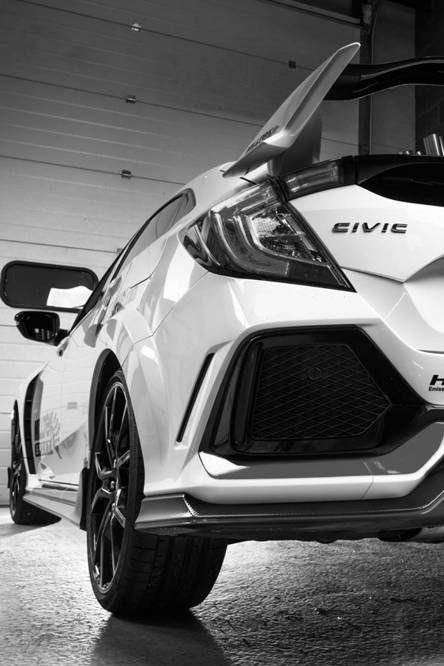Car boot: (213, 146, 444, 361)
Rear bumper: (119, 270, 444, 556)
Rear light - -L-: (169, 151, 365, 296)
Side bumper - -L-: (19, 466, 103, 538)
Side mirror - -L-: (11, 306, 79, 355)
